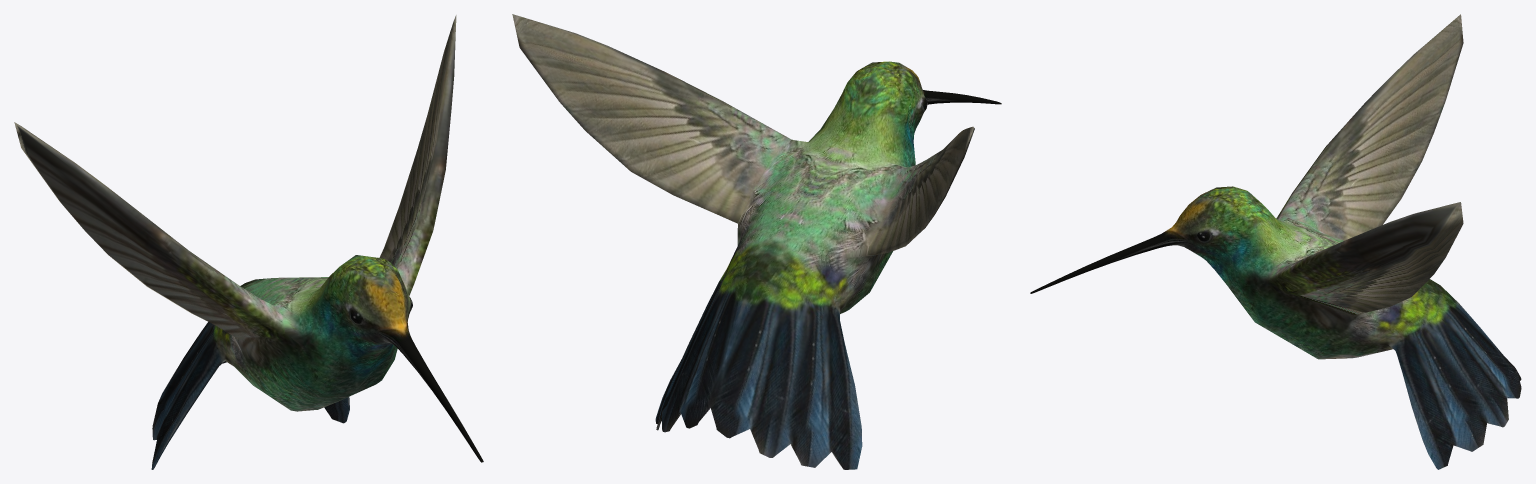
The model's file is humming biard.fbx.
3 views of the same model, side by side, from view 1: azimuth 30°, elevation 25°; view 2: azimuth 150°, elevation 25°; view 3: azimuth 270°, elevation 25° (orthographic). The views are drawn at different scales.
Parts seen in each view (by area): view 1: _Hummingbird_v1_iterations_2:Hummingbird; view 2: _Hummingbird_v1_iterations_2:Hummingbird; view 3: _Hummingbird_v1_iterations_2:Hummingbird.
Boxes of the visible parts, bbox=[...] form: _Hummingbird_v1_iterations_2:Hummingbird: bbox=[14, 15, 483, 469]; _Hummingbird_v1_iterations_2:Hummingbird: bbox=[512, 14, 1001, 469]; _Hummingbird_v1_iterations_2:Hummingbird: bbox=[1030, 14, 1521, 469].
Size of the model in its own units: 13.88 by 11.07 by 15.34.
